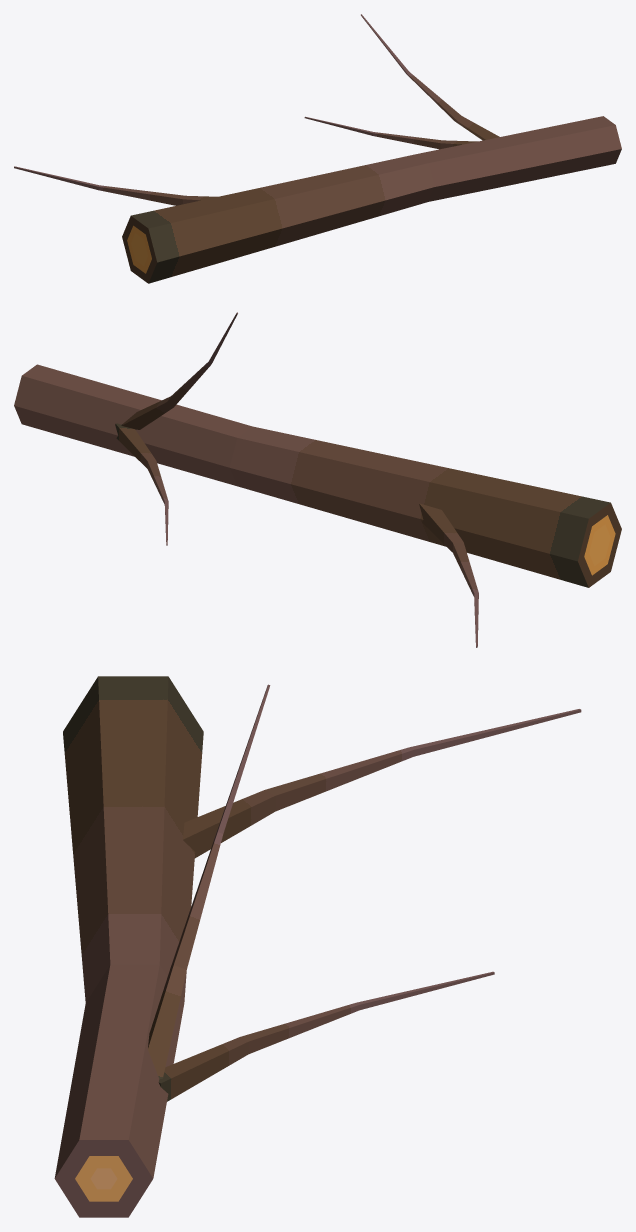
Rendered from SpruceClutter_009.fbx.
3 renders of one model, top to bottom at view 1: azimuth 30°, elevation 25°; view 2: azimuth 150°, elevation 25°; view 3: azimuth 270°, elevation 25°, orthographic. The views are drawn at different scales.
Parts seen in each view (by area): view 1: SpruceClutter.009; view 2: SpruceClutter.009; view 3: SpruceClutter.009.
Part boxes in pixels (x1,y1,x2,y2): SpruceClutter.009: (14,14,621,283); SpruceClutter.009: (14,312,621,647); SpruceClutter.009: (54,676,581,1217).
Size of the model in its own units: 5.65 by 1.99 by 2.7.
